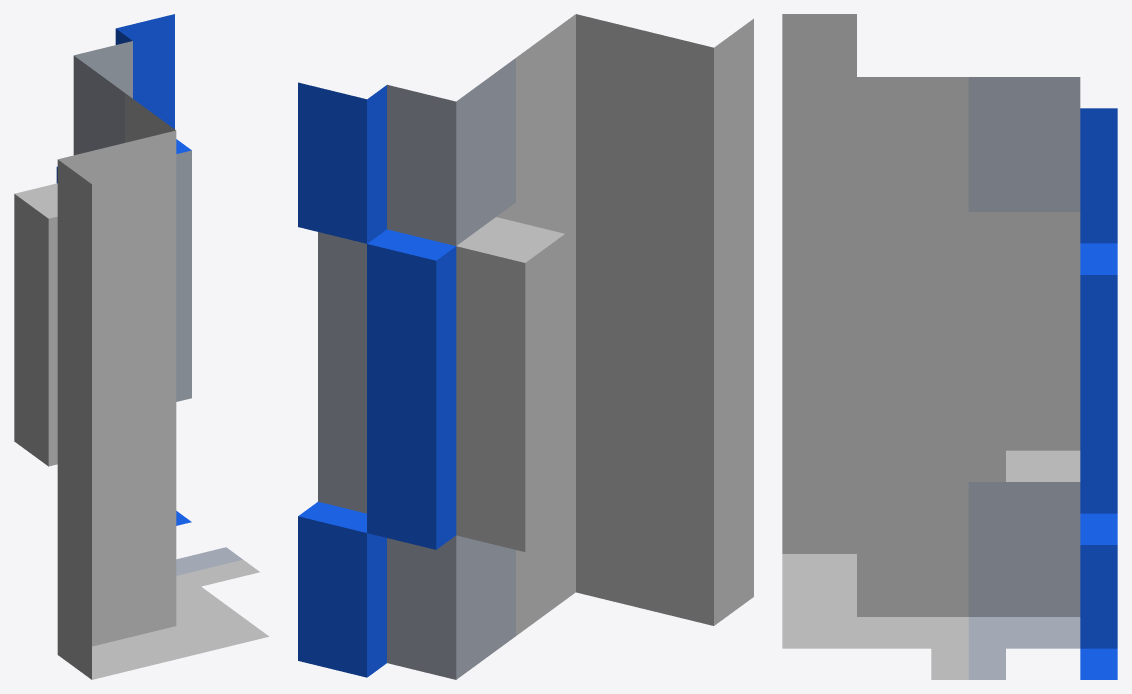
File: cell_3.obj
3 views of the same model, side by side, from view 1: azimuth 30°, elevation 25°; view 2: azimuth 150°, elevation 25°; view 3: azimuth 270°, elevation 25° (orthographic). The views are drawn at different scales.
Bounding box in the file's own units: 0.5 × 1 × 0.5625.
